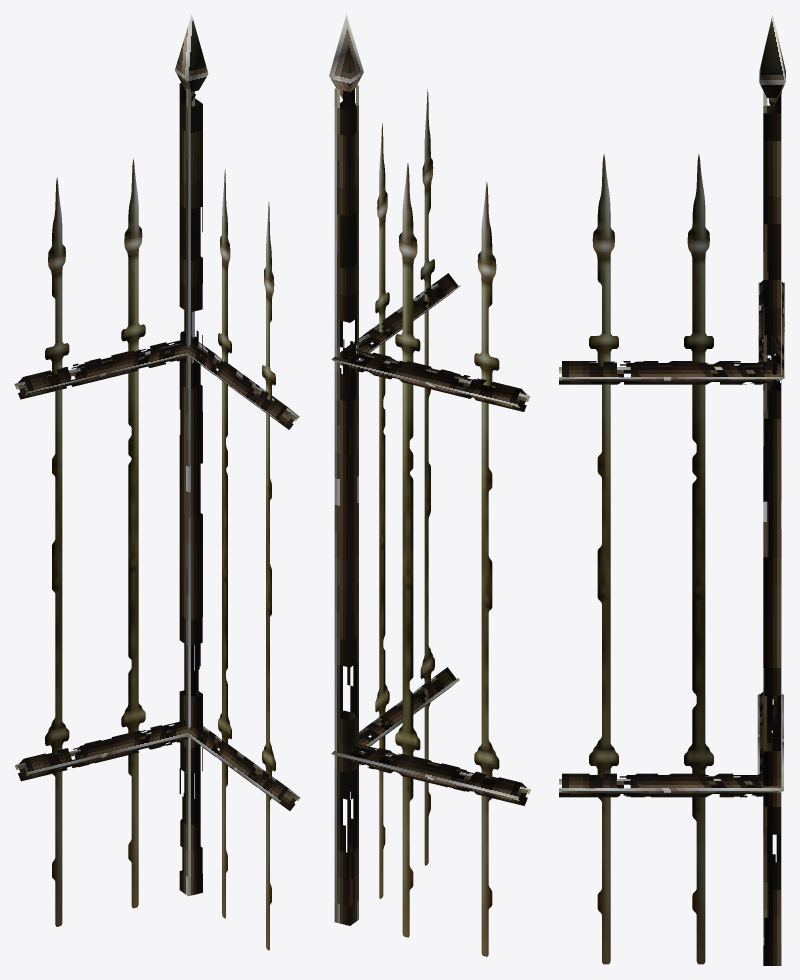
File: SteelWall01.obj
The picture shows the model from 3 angles, left to right: view 1: azimuth 30°, elevation 25°; view 2: azimuth 150°, elevation 25°; view 3: azimuth 270°, elevation 25°; orthographic projection. The views are drawn at different scales.
Visible parts, largest first — view 1: Mesh_0, Mesh_1; view 2: Mesh_0, Mesh_1; view 3: Mesh_0, Mesh_1.
Boxes of the visible parts, x1=… form: Mesh_0: x1=14, y1=14, x2=300, y2=896; Mesh_1: x1=45, y1=158, x2=275, y2=950; Mesh_0: x1=329, y1=14, x2=530, y2=925; Mesh_1: x1=375, y1=89, x2=499, y2=956; Mesh_0: x1=559, y1=15, x2=785, y2=965; Mesh_1: x1=589, y1=154, x2=713, y2=964.
Bounding box in the file's own units: 0.5355 × 2.47 × 0.5343.
Materials: 2 (2 with a texture image).
